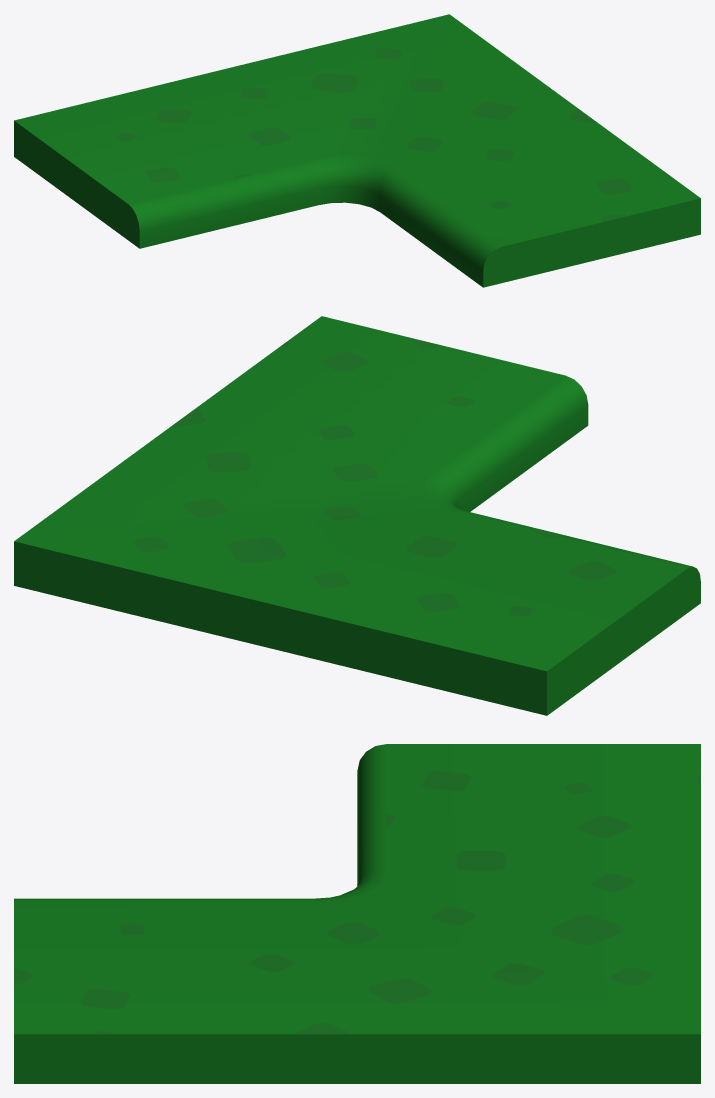
File: GF_ICorner_3_3.obj
The picture shows the model from 3 angles, top to bottom: view 1: azimuth 30°, elevation 25°; view 2: azimuth 150°, elevation 25°; view 3: azimuth 270°, elevation 25°; orthographic projection. The views are drawn at different scales.
Parts seen in each view (by area): view 1: GF_ICorner_3_3; view 2: GF_ICorner_3_3; view 3: GF_ICorner_3_3.
Part boxes in pixels (left/top/right/bottom): GF_ICorner_3_3: left=14, top=14, right=700, bottom=287; GF_ICorner_3_3: left=14, top=316, right=700, bottom=715; GF_ICorner_3_3: left=14, top=744, right=700, bottom=1083.
Bounding box in the file's own units: 4 × 0.3187 × 4.
